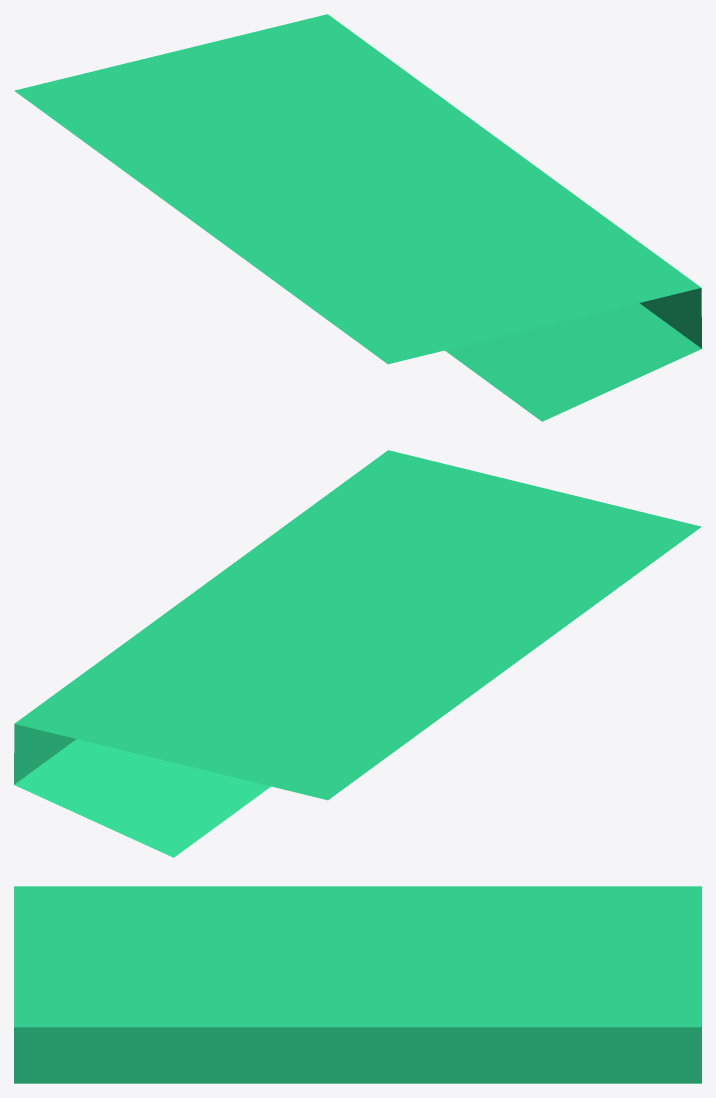
File: ColWallUpperDivider.fbx
3 renders of one model, top to bottom at view 1: azimuth 30°, elevation 25°; view 2: azimuth 150°, elevation 25°; view 3: azimuth 270°, elevation 25°, orthographic. The views are drawn at different scales.
Parts seen in each view (by area): view 1: ColWallUpperDivider; view 2: ColWallUpperDivider; view 3: ColWallUpperDivider.
Boxes of the visible parts, x1,y1,x2,y2 form: ColWallUpperDivider: (14, 14, 701, 421); ColWallUpperDivider: (14, 450, 701, 857); ColWallUpperDivider: (14, 886, 701, 1083).
Bounding box in the file's own units: 96.99 × 28.07 × 200.
